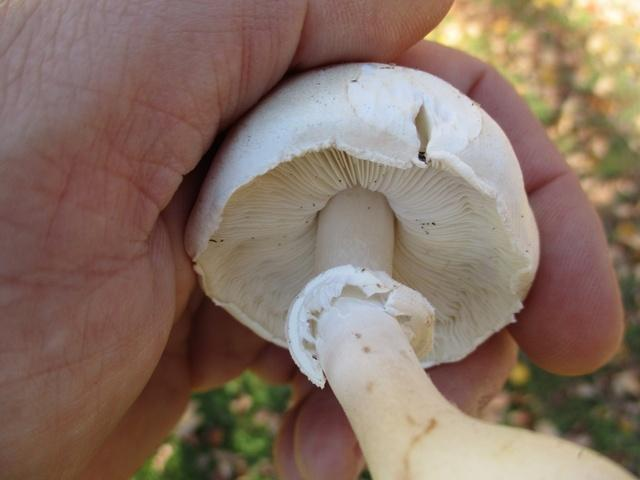Non-edible Mushroom: (182, 60, 542, 387)
